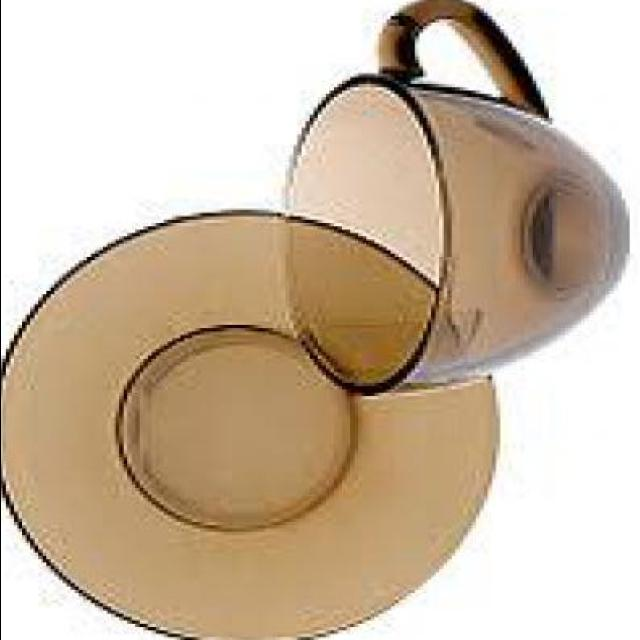kaca: (0, 212, 499, 640), (272, 0, 628, 399)
